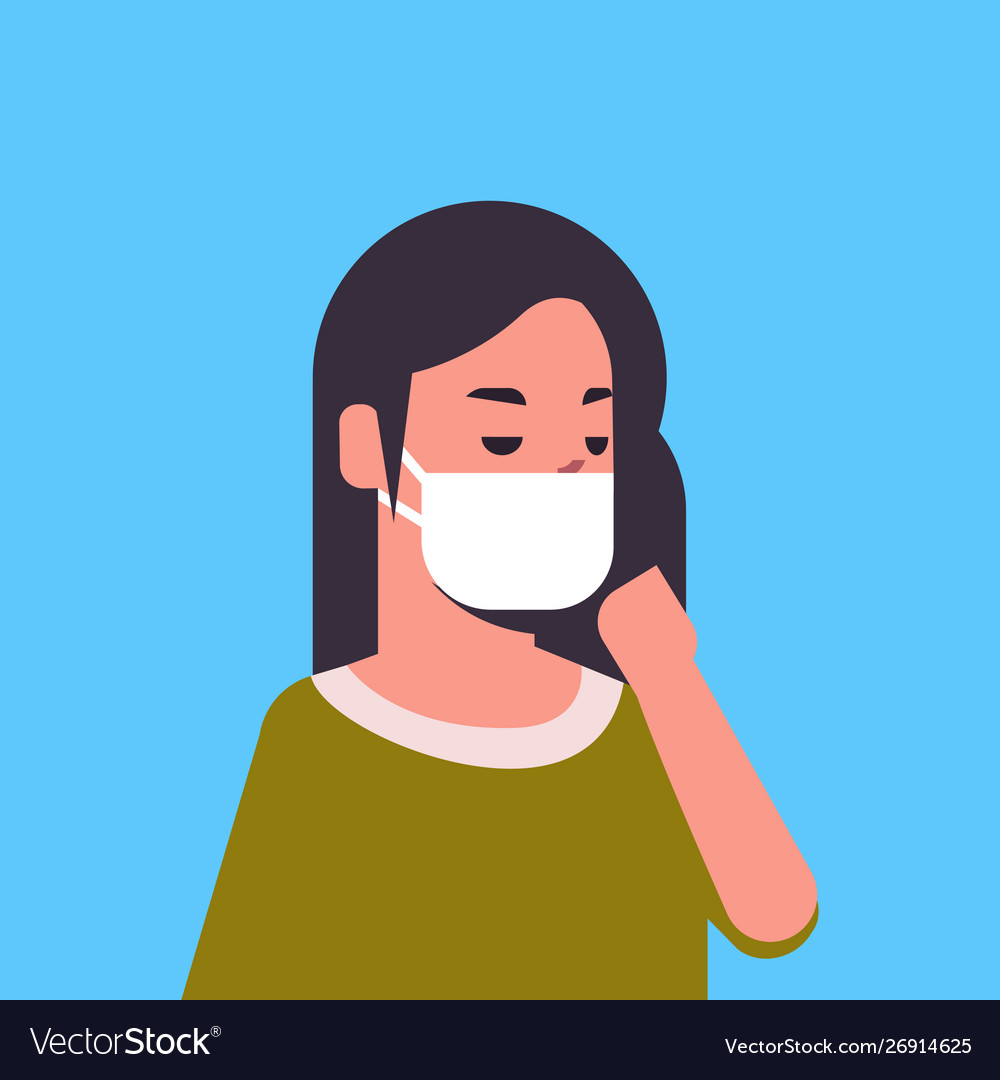mask: (382, 455, 652, 621)
